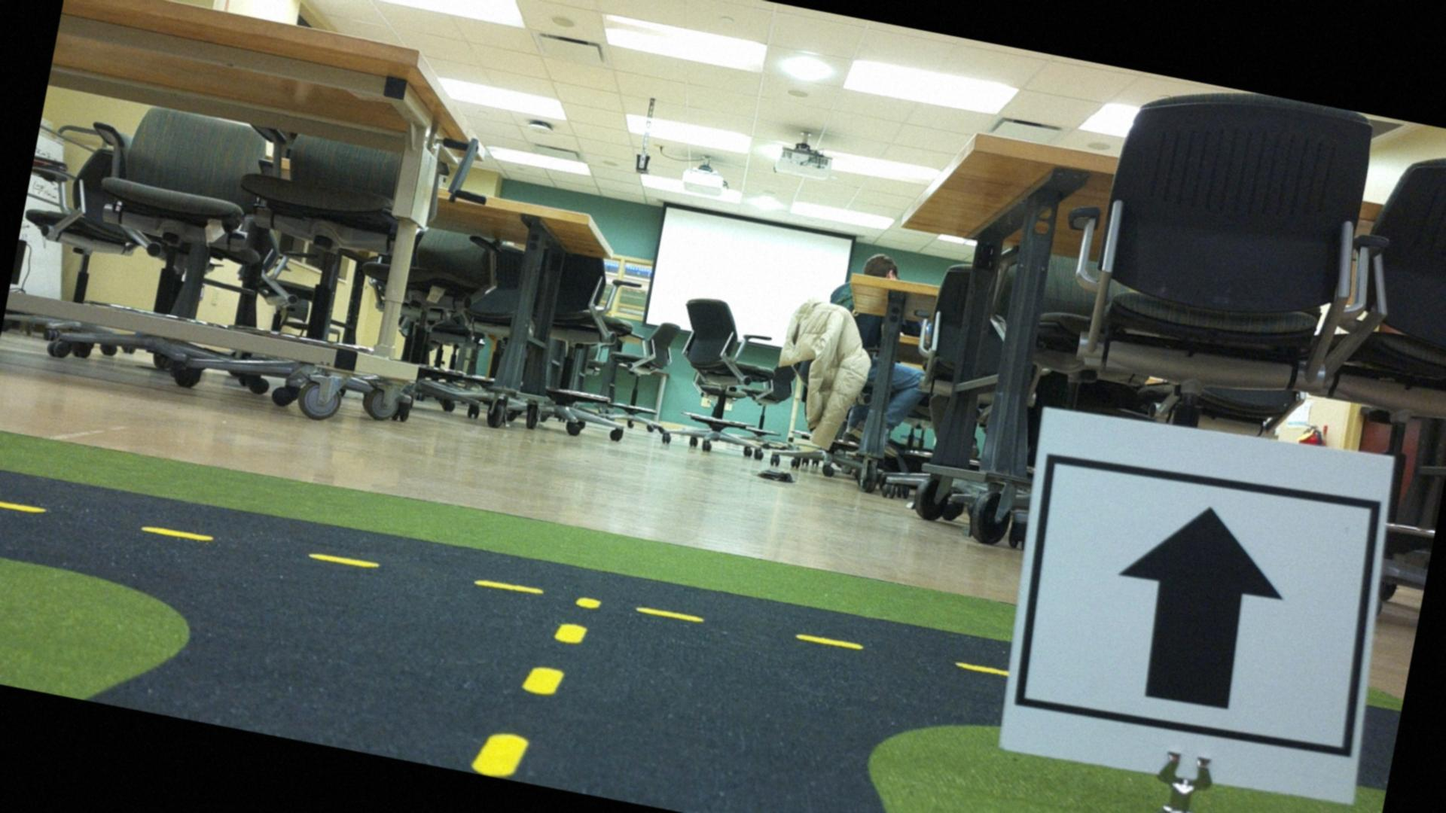gostraight: (1000, 428, 1383, 787)
yellowline: (0, 473, 1008, 696), (472, 581, 598, 790)
